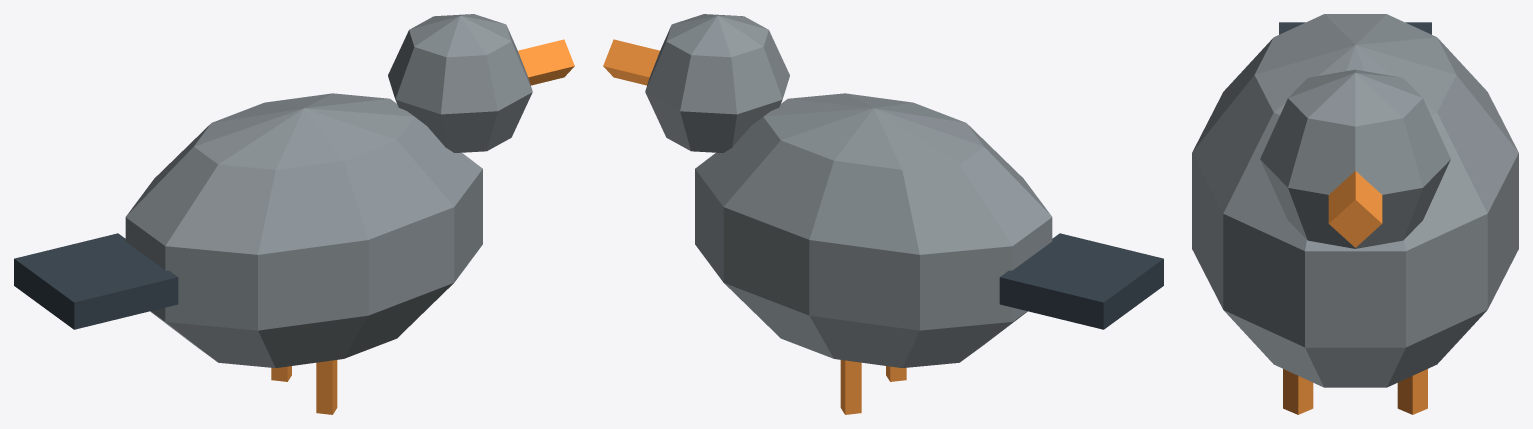
Rendered from pombo.glb.
3 views of the same model, side by side, from view 1: azimuth 30°, elevation 25°; view 2: azimuth 150°, elevation 25°; view 3: azimuth 270°, elevation 25° (orthographic). The views are drawn at different scales.
Parts seen in each view (by area): view 1: pombo; view 2: pombo; view 3: pombo.
Part boxes in pixels (x1,y1,x2,y2): pombo: (14,14,574,414); pombo: (603,14,1163,414); pombo: (1192,14,1518,414).
Bounding box in the file's own units: 0.4 × 0.25 × 0.1712.
